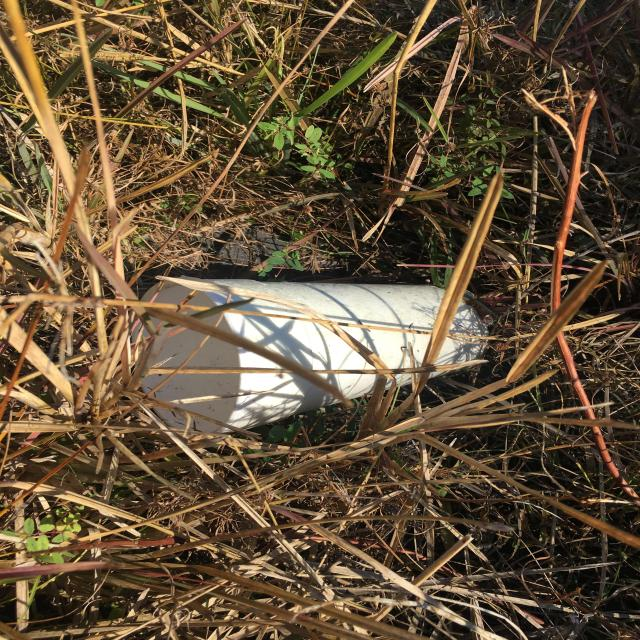litter: (365, 112, 591, 383)
